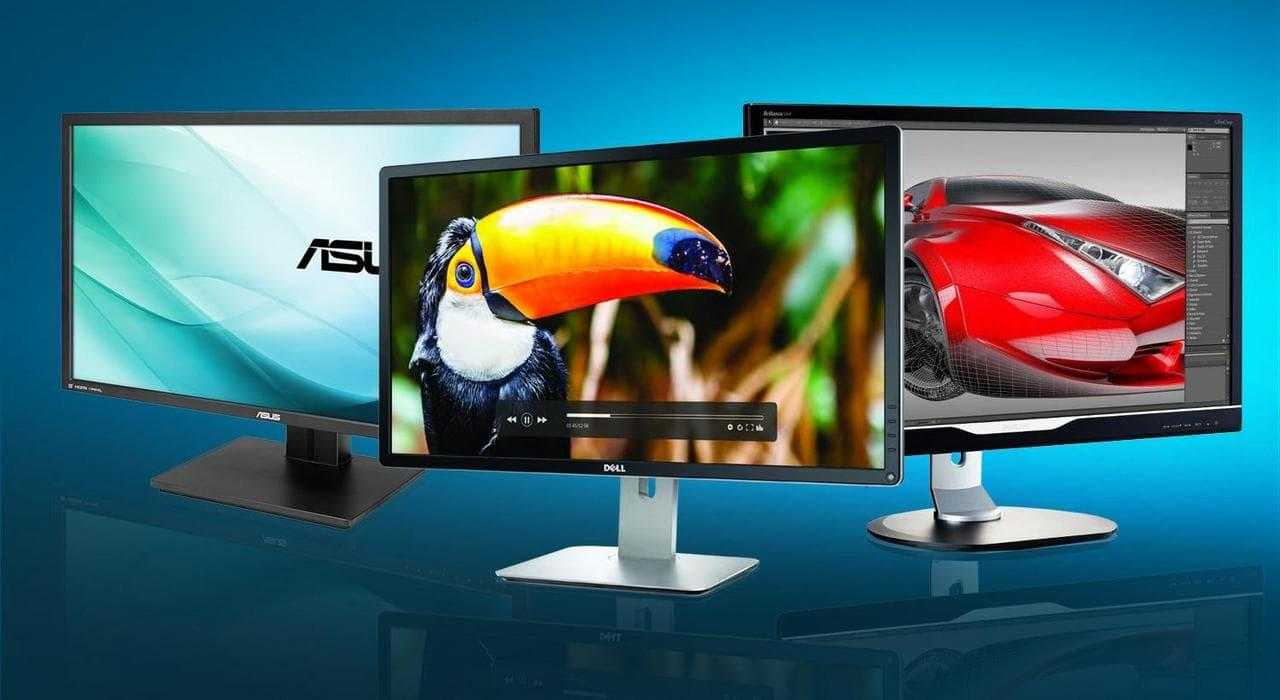monitor: (367, 122, 907, 615), (738, 93, 1257, 562), (50, 102, 548, 540)
